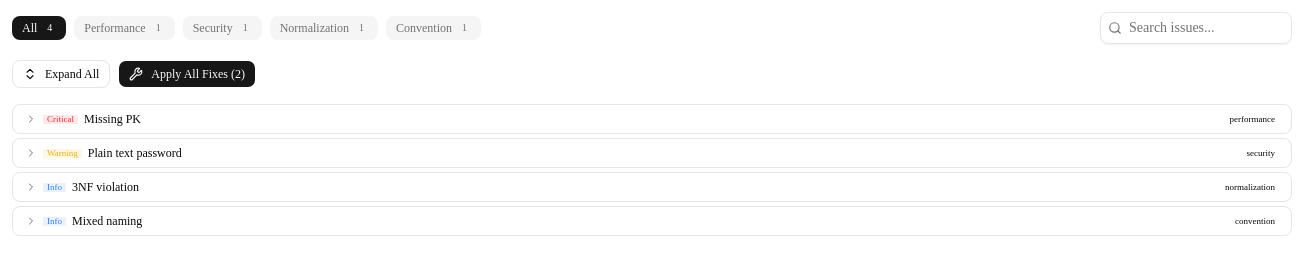
Test case: IssuesList › searches by table name
Type "orders" into the field with placeholder "Search issues...".
click(1196, 28); type("orders")  # box [1100,12,1292,44]
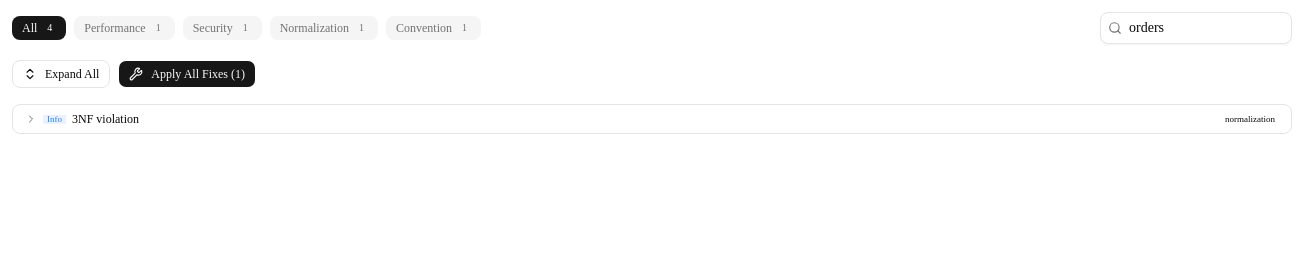
expect the text "3NF violation" is shown: met, box [72,112,139,126]
expect the button "Missing PK" is gone: met
